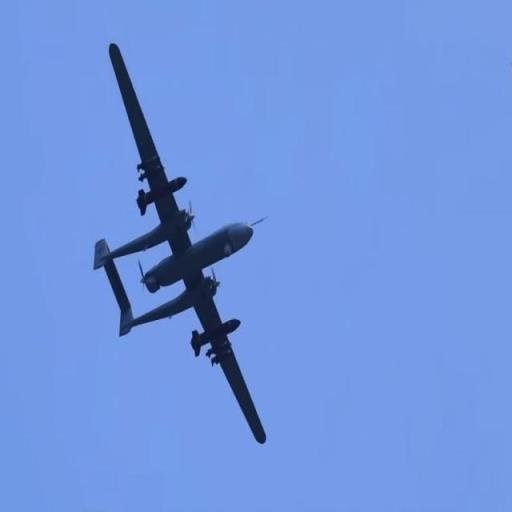uav: (93, 41, 270, 448)
